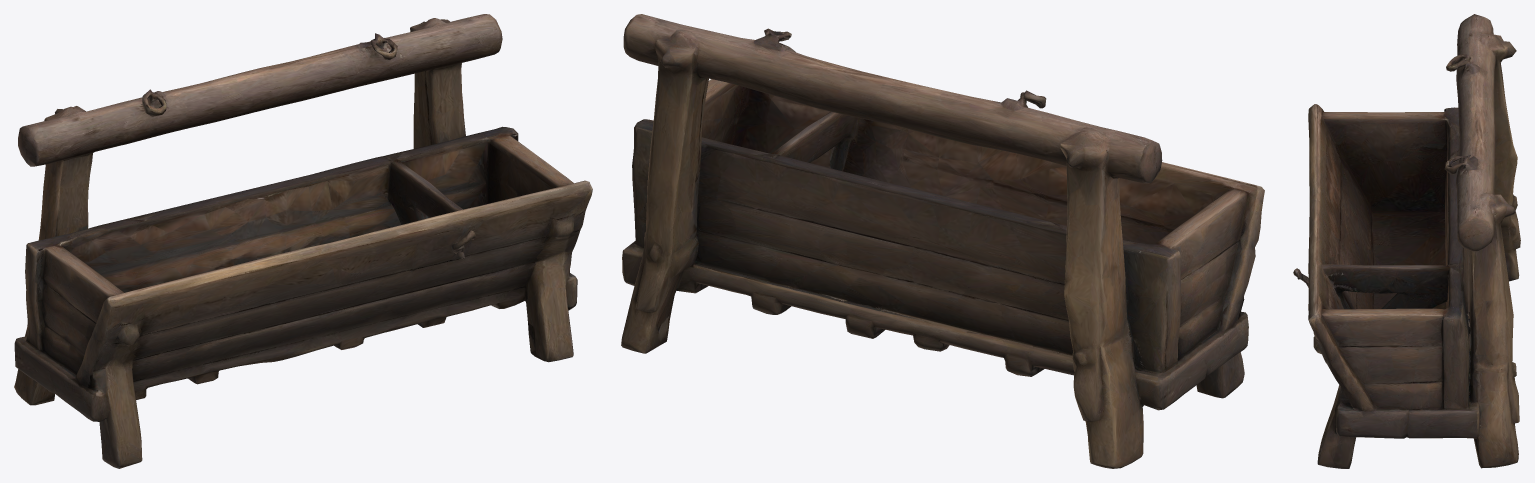
The model's file is trog.glb.
3 views of the same model, side by side, from view 1: azimuth 30°, elevation 25°; view 2: azimuth 150°, elevation 25°; view 3: azimuth 270°, elevation 25° (orthographic). The views are drawn at different scales.
Size of the model in its own units: 2.01 by 1.17 by 0.9014.
Materials: 1 (1 with a texture image).
